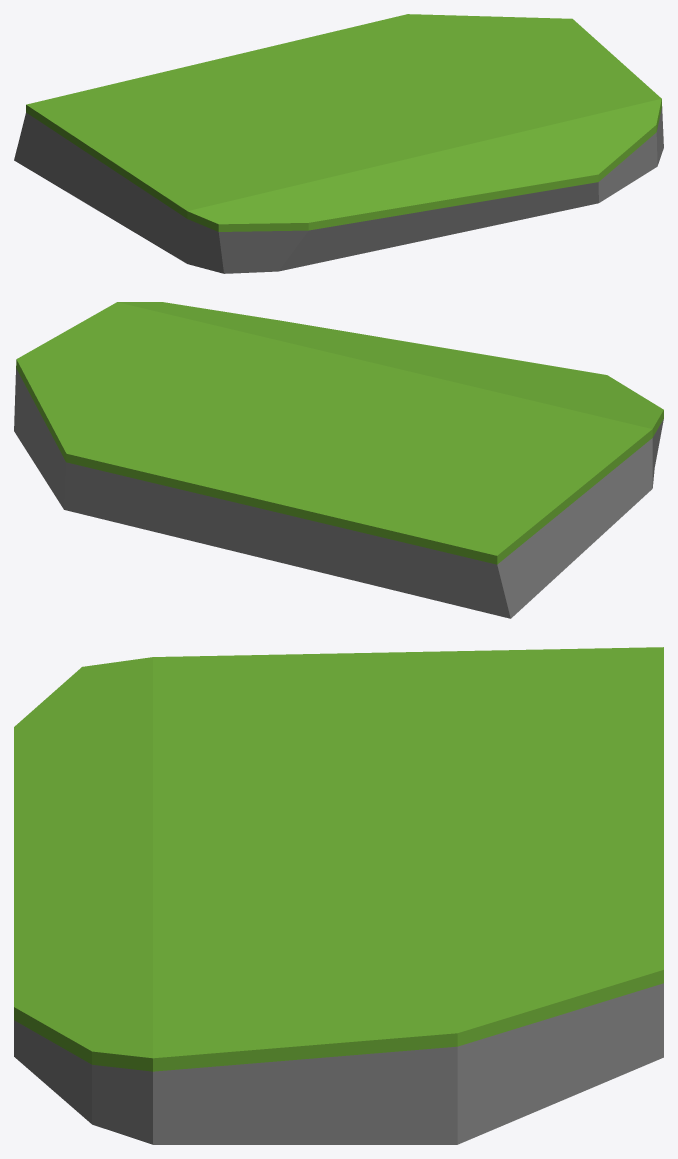
File: SM_Rock_Flat.fbx
The picture shows the model from 3 angles, top to bottom: view 1: azimuth 30°, elevation 25°; view 2: azimuth 150°, elevation 25°; view 3: azimuth 270°, elevation 25°; orthographic projection. The views are drawn at different scales.
Visible parts, largest first — view 1: Rock.004; view 2: Rock.004; view 3: Rock.004.
Part boxes in pixels (x1=…): Rock.004: x1=14, y1=14, x2=663, y2=273; Rock.004: x1=14, y1=302, x2=663, y2=618; Rock.004: x1=14, y1=647, x2=663, y2=1144.
Size of the model in its own units: 1099 by 135 by 723.
